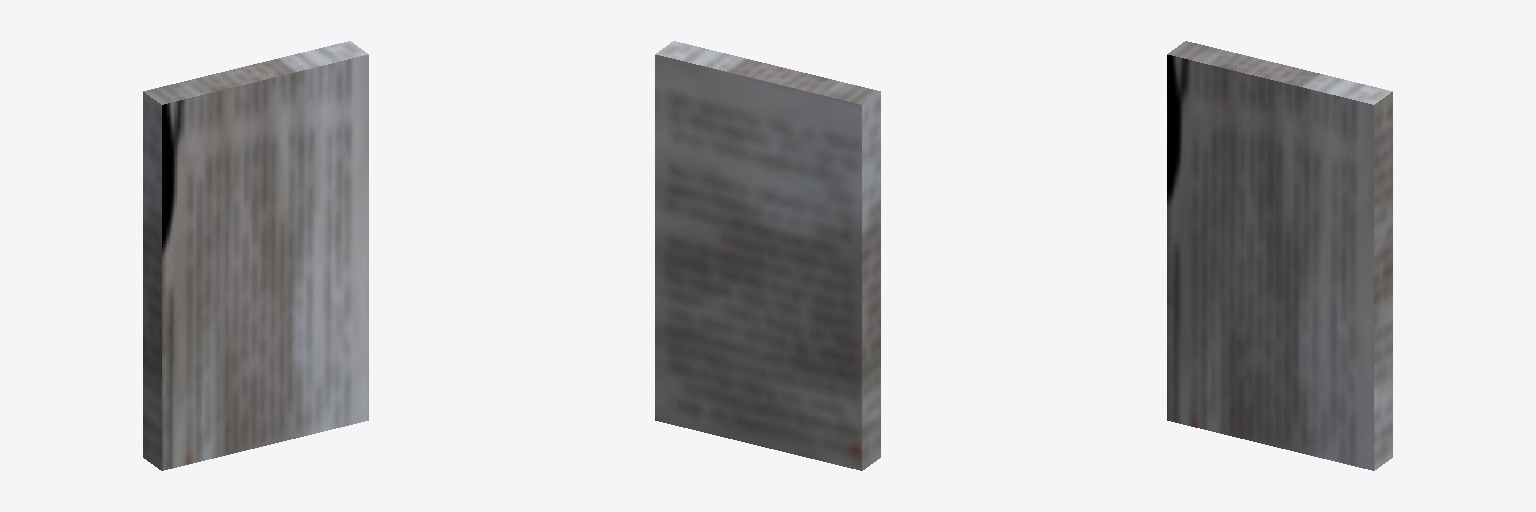
3 renders of one model, left to right at view 1: azimuth 30°, elevation 25°; view 2: azimuth 150°, elevation 25°; view 3: azimuth 330°, elevation 25°, orthographic.
Parts seen in each view (by area): view 1: Cube.027; view 2: Cube.027; view 3: Cube.027.
Boxes of the visible parts, x1,y1,x2,y2 form: Cube.027: [143, 41, 368, 470]; Cube.027: [655, 41, 880, 470]; Cube.027: [1167, 41, 1392, 470].
Size of the model in its own units: 0.5979 by 1.01 by 0.0926.
1 materials, 1 textured.